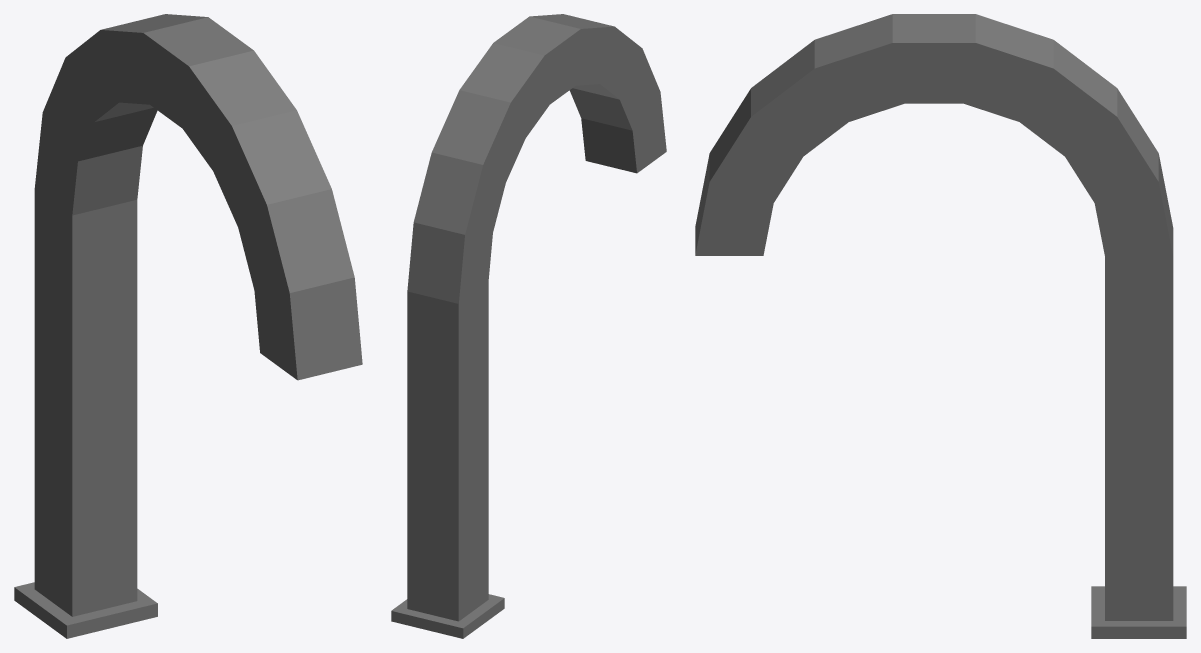
File: Plumbing1_C2_02.fbx
The picture shows the model from 3 angles, left to right: view 1: azimuth 30°, elevation 25°; view 2: azimuth 150°, elevation 25°; view 3: azimuth 270°, elevation 25°; orthographic projection. The views are drawn at different scales.
Visible parts, largest first — view 1: Plumbing1_C2_02; view 2: Plumbing1_C2_02; view 3: Plumbing1_C2_02.
Part boxes in pixels (x1,y1,x2,y2): Plumbing1_C2_02: [14, 14, 362, 638]; Plumbing1_C2_02: [391, 14, 666, 638]; Plumbing1_C2_02: [695, 14, 1186, 638].
Bounding box in the file's own units: 2.59 × 17.66 × 13.33.
